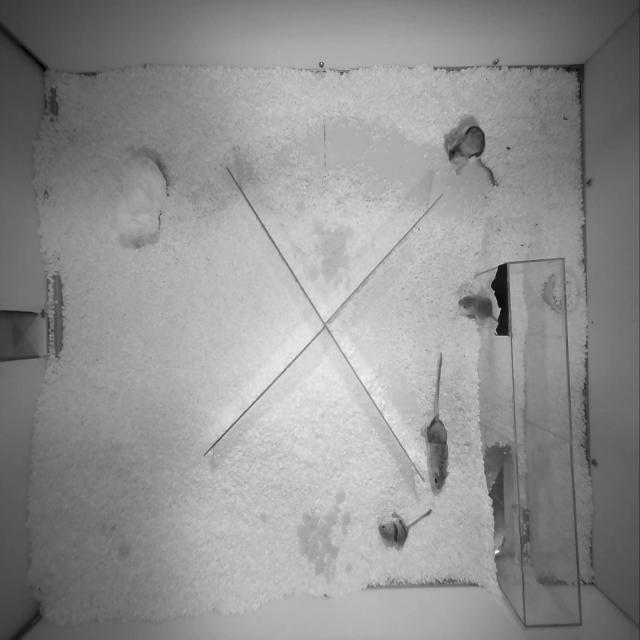adult_back: (421, 352, 448, 489)
adult_front: (448, 126, 495, 183)
pup_fluffy: (458, 296, 498, 321)
pup_h_stripe: (378, 509, 432, 548)
